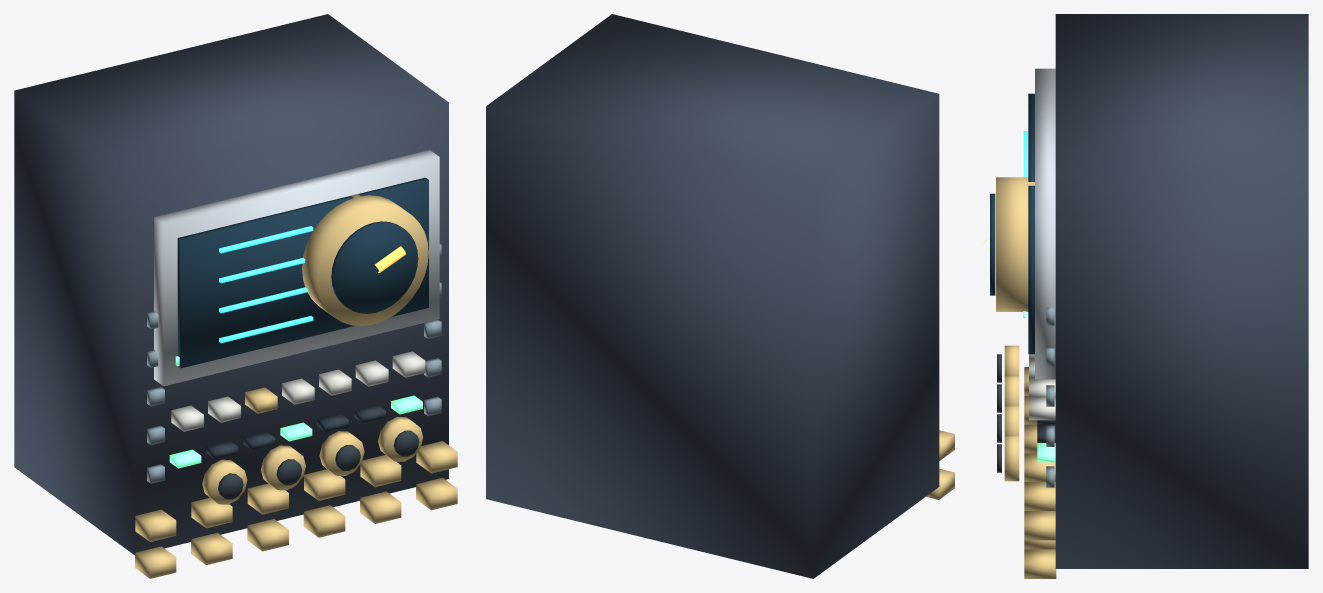
The model's file is 73_L92_CartridgeLeakIntegrityTester.fbx.
3 views of the same model, side by side, from view 1: azimuth 30°, elevation 25°; view 2: azimuth 150°, elevation 25°; view 3: azimuth 270°, elevation 25° (orthographic). The views are drawn at different scales.
Parts seen in each view (by area): view 1: L92_CartridgeLeakIntegrityTes_Part_0000, L92_CartridgeLeakIntegrityTes_Part_0002, L92_CartridgeLeakIntegrityTes_Part_0004, L92_CartridgeLeakIntegrityTes_Part_0001, L92_CartridgeLeakIntegrityTes_Part_0006, L92_CartridgeLeakIntegrityTes_Part_0008, L92_CartridgeLeakIntegrityTes_Part_0003, L92_CartridgeLeakIntegrityTes_Part_0007, L92_CartridgeLeakIntegrityTes_Part_0005, L92_CartridgeLeakIntegrityTes_Part_0013, L92_CartridgeLeakIntegrityTes_Part_0011, L92_CartridgeLeakIntegrityTes_Part_0017 (+1 smaller); view 2: L92_CartridgeLeakIntegrityTes_Part_0000, L92_CartridgeLeakIntegrityTes_Part_0004; view 3: L92_CartridgeLeakIntegrityTes_Part_0000, L92_CartridgeLeakIntegrityTes_Part_0004, L92_CartridgeLeakIntegrityTes_Part_0001, L92_CartridgeLeakIntegrityTes_Part_0002, L92_CartridgeLeakIntegrityTes_Part_0006, L92_CartridgeLeakIntegrityTes_Part_0008, L92_CartridgeLeakIntegrityTes_Part_0017, L92_CartridgeLeakIntegrityTes_Part_0011, L92_CartridgeLeakIntegrityTes_Part_0013, L92_CartridgeLeakIntegrityTes_Part_0015.
Part boxes in pixels (left/top/right/bottom): L92_CartridgeLeakIntegrityTes_Part_0000: left=14, top=14, right=448, bottom=555; L92_CartridgeLeakIntegrityTes_Part_0002: left=177, top=177, right=428, bottom=368; L92_CartridgeLeakIntegrityTes_Part_0004: left=135, top=194, right=457, bottom=578; L92_CartridgeLeakIntegrityTes_Part_0001: left=154, top=150, right=439, bottom=386; L92_CartridgeLeakIntegrityTes_Part_0006: left=171, top=351, right=425, bottom=431; L92_CartridgeLeakIntegrityTes_Part_0008: left=147, top=244, right=441, bottom=483; L92_CartridgeLeakIntegrityTes_Part_0003: left=219, top=226, right=313, bottom=343; L92_CartridgeLeakIntegrityTes_Part_0007: left=206, top=404, right=385, bottom=459; L92_CartridgeLeakIntegrityTes_Part_0005: left=169, top=395, right=422, bottom=468; L92_CartridgeLeakIntegrityTes_Part_0013: left=261, top=445, right=305, bottom=490; L92_CartridgeLeakIntegrityTes_Part_0011: left=202, top=459, right=247, bottom=504; L92_CartridgeLeakIntegrityTes_Part_0017: left=378, top=416, right=423, bottom=461; L92_CartridgeLeakIntegrityTes_Part_0000: left=486, top=14, right=939, bottom=578; L92_CartridgeLeakIntegrityTes_Part_0004: left=926, top=430, right=954, bottom=499; L92_CartridgeLeakIntegrityTes_Part_0000: left=1055, top=14, right=1308, bottom=568; L92_CartridgeLeakIntegrityTes_Part_0004: left=996, top=177, right=1056, bottom=578; L92_CartridgeLeakIntegrityTes_Part_0001: left=1035, top=68, right=1055, bottom=379; L92_CartridgeLeakIntegrityTes_Part_0002: left=990, top=93, right=1034, bottom=354; L92_CartridgeLeakIntegrityTes_Part_0006: left=1029, top=354, right=1055, bottom=420; L92_CartridgeLeakIntegrityTes_Part_0008: left=1046, top=307, right=1054, bottom=487; L92_CartridgeLeakIntegrityTes_Part_0017: left=1004, top=435, right=1019, bottom=481; L92_CartridgeLeakIntegrityTes_Part_0011: left=1004, top=345, right=1019, bottom=375; L92_CartridgeLeakIntegrityTes_Part_0013: left=1004, top=375, right=1019, bottom=405; L92_CartridgeLeakIntegrityTes_Part_0015: left=1004, top=405, right=1019, bottom=435.
Bounding box in the file's own units: 1.07 × 1.27 × 0.918.
